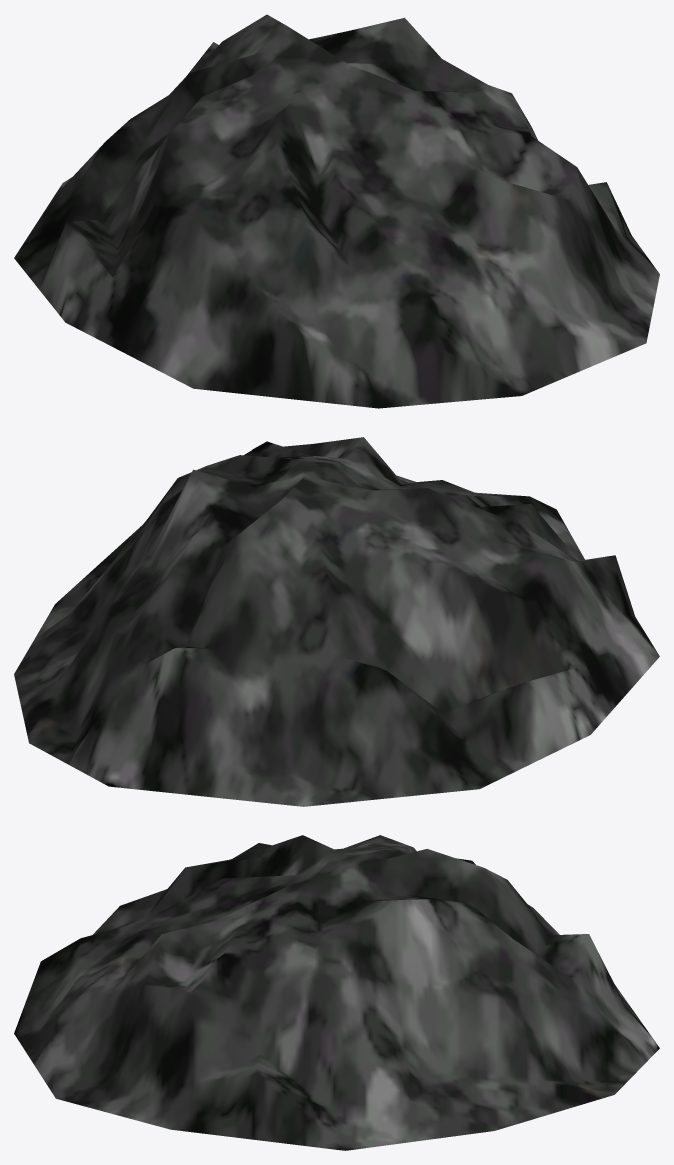
File: INST_SWORDLIGHT_OREB.fbx
The picture shows the model from 3 angles, top to bottom: view 1: azimuth 30°, elevation 25°; view 2: azimuth 150°, elevation 25°; view 3: azimuth 270°, elevation 25°; orthographic projection. The views are drawn at different scales.
Visible parts, largest first — view 1: INST_SWORDLIGHT_OREB; view 2: INST_SWORDLIGHT_OREB; view 3: INST_SWORDLIGHT_OREB.
Part boxes in pixels (x1,y1,x2,y2): INST_SWORDLIGHT_OREB: (14,14,659,408); INST_SWORDLIGHT_OREB: (14,437,659,806); INST_SWORDLIGHT_OREB: (14,835,659,1150).
Bounding box in the file's own units: 12161 × 4428 × 14155.
1 material, 1 textured.
